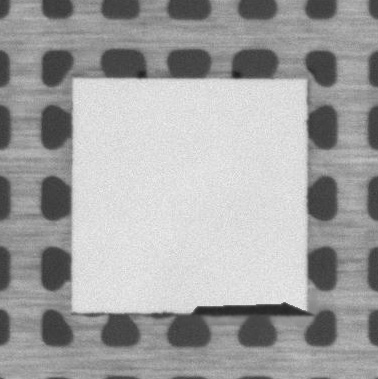DIE_BROKEN: (184, 301, 313, 317)
